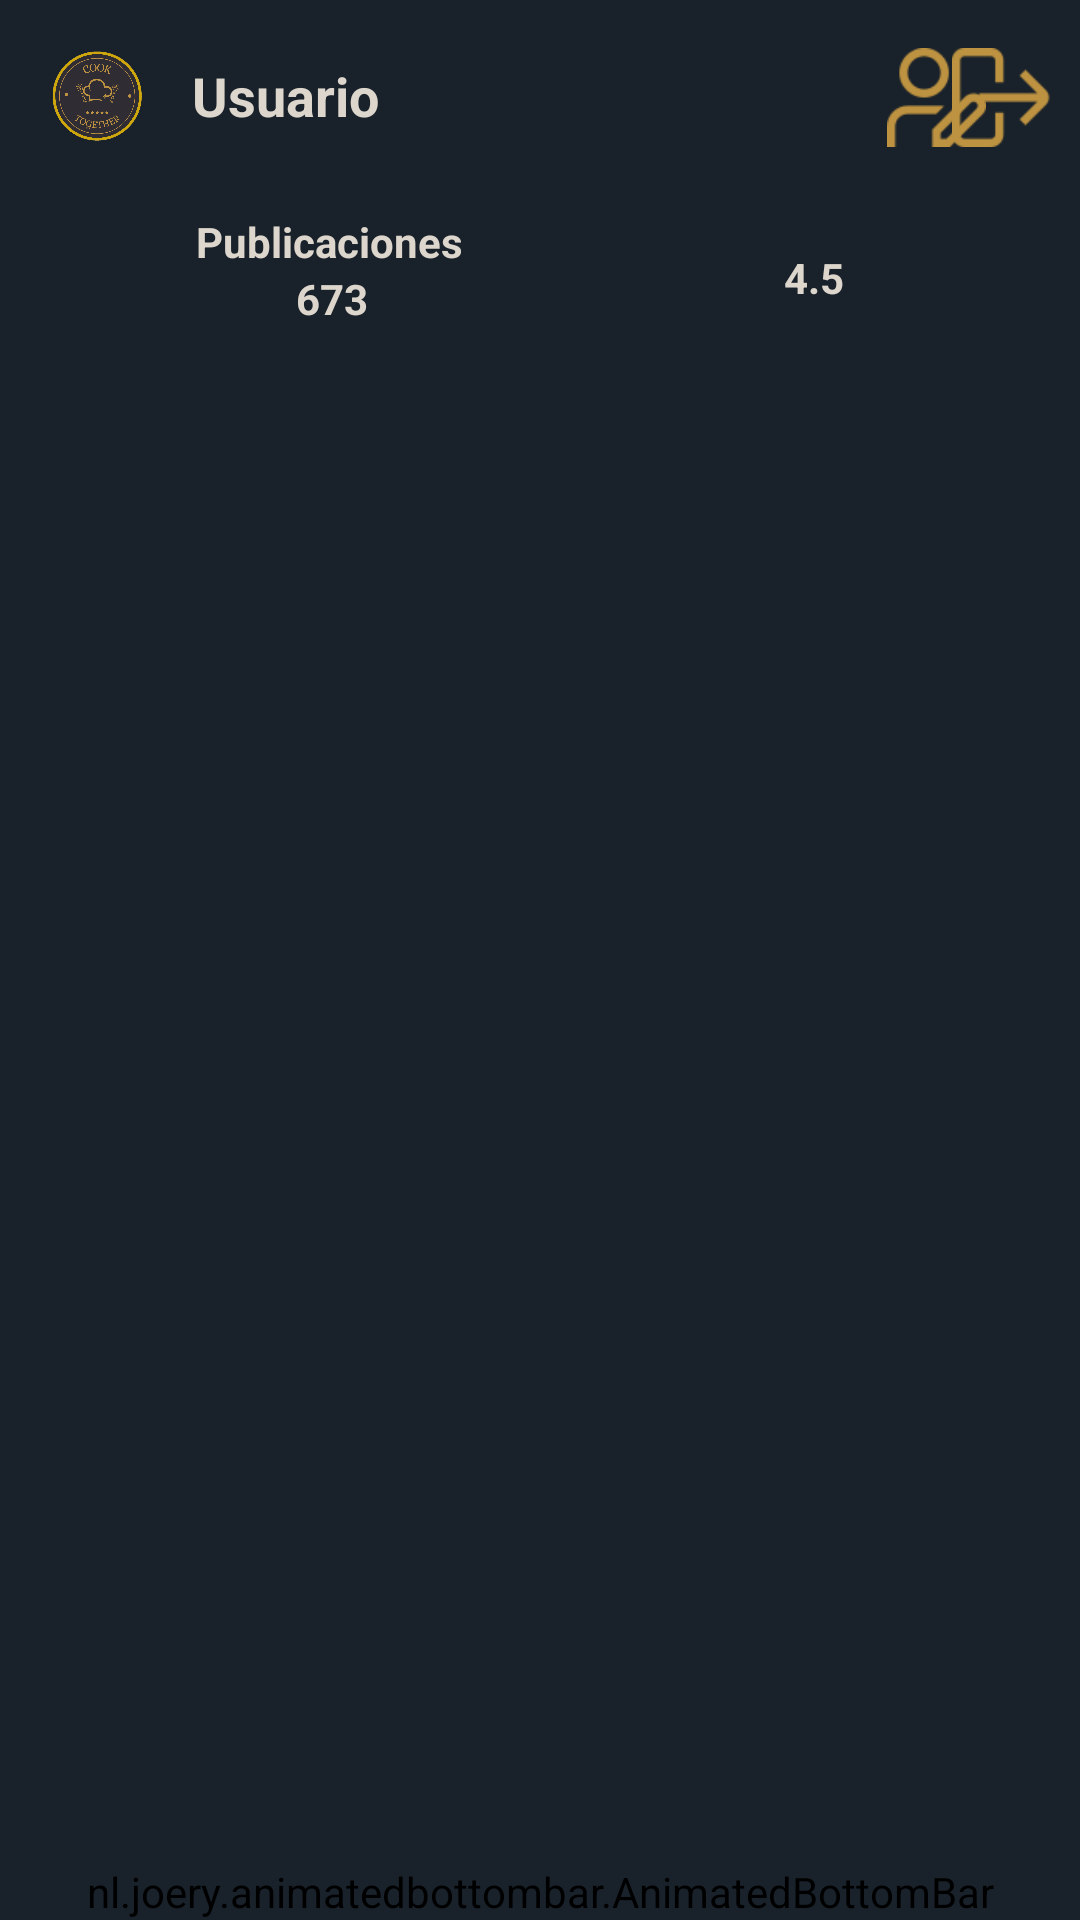

Icons on this 1080 x 1920 Android screen, each with its box as (x1=x1, y1=y1, x2=x2, y2=y2):
useredit: (x1=887, y1=48, x2=998, y2=147)
